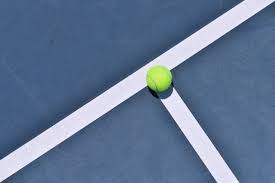tennis_ball: (146, 65, 173, 93)
